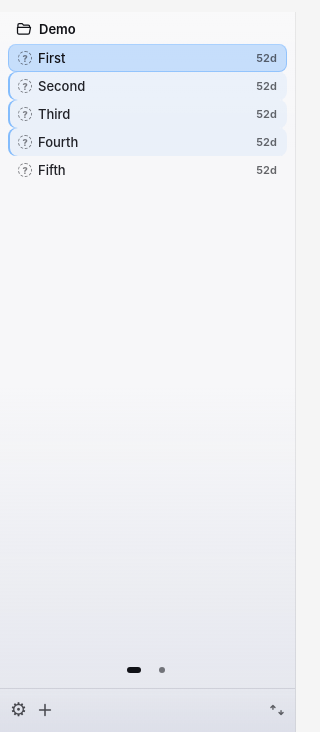
sidebar Session pane drag › renames a group on double click and persists its custom title
Click the button named "分屏分组".
click(162, 670)  # box [148, 656, 176, 684]
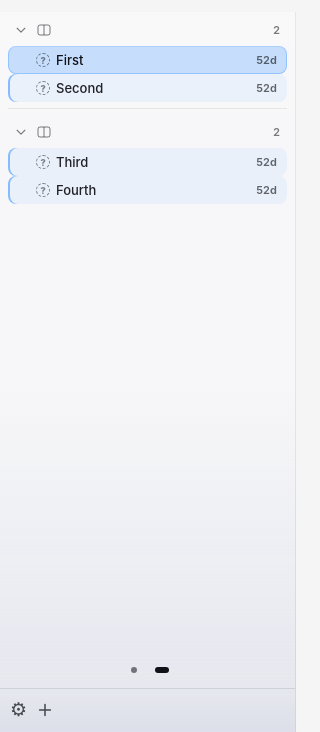
Double-click the button named "未命名分组 2".
double_click(160, 30)  # box [34, 15, 287, 45]
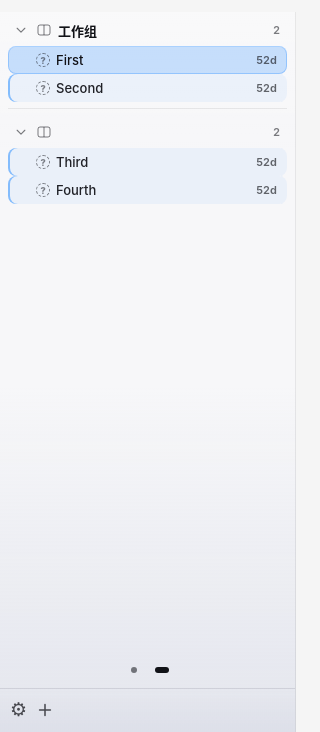
Result: the button "工作组 2" is shown at [34, 15, 287, 45]
Result: the text "工作组" is shown at [58, 22, 97, 38]
